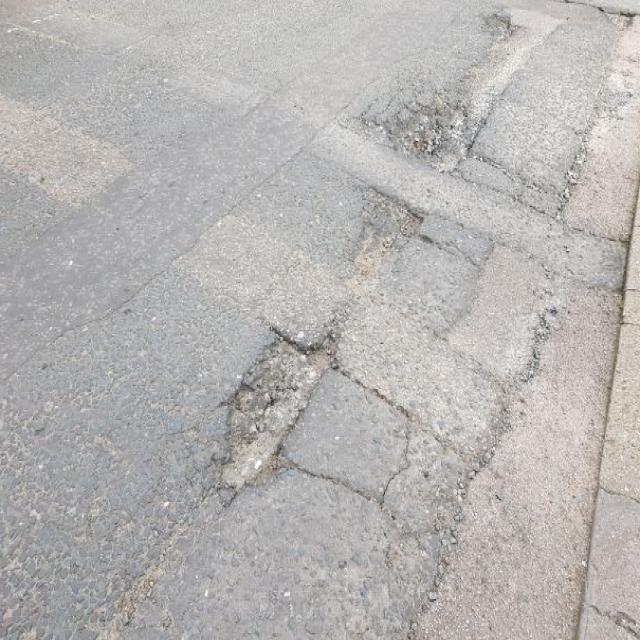pothole: (206, 323, 349, 506), (350, 188, 430, 274), (376, 88, 468, 156), (481, 8, 527, 44), (602, 4, 640, 31)
